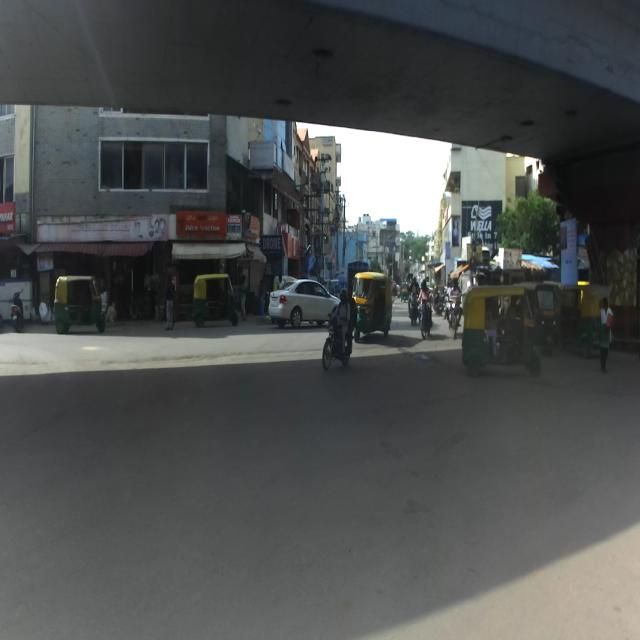auto ahead at: (462, 279, 544, 380), (354, 269, 394, 339)
